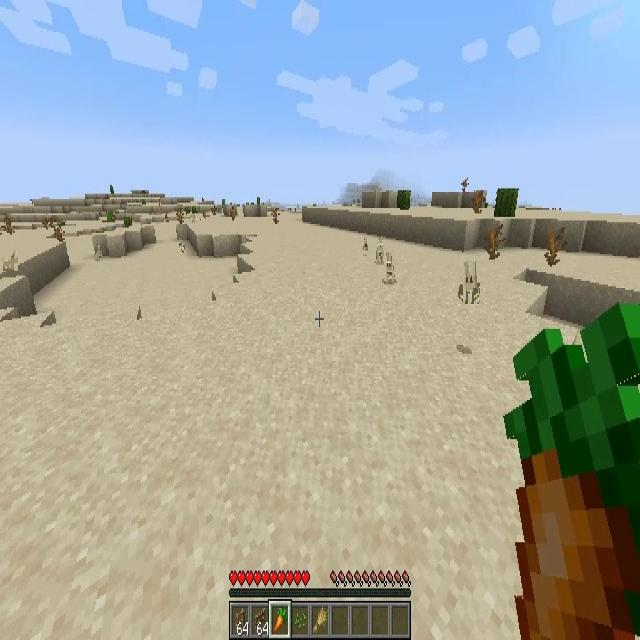rabbit: (463, 262, 480, 304), (384, 250, 396, 286), (3, 249, 18, 271), (375, 235, 384, 263), (178, 239, 185, 254), (363, 235, 369, 252), (95, 248, 101, 260)
